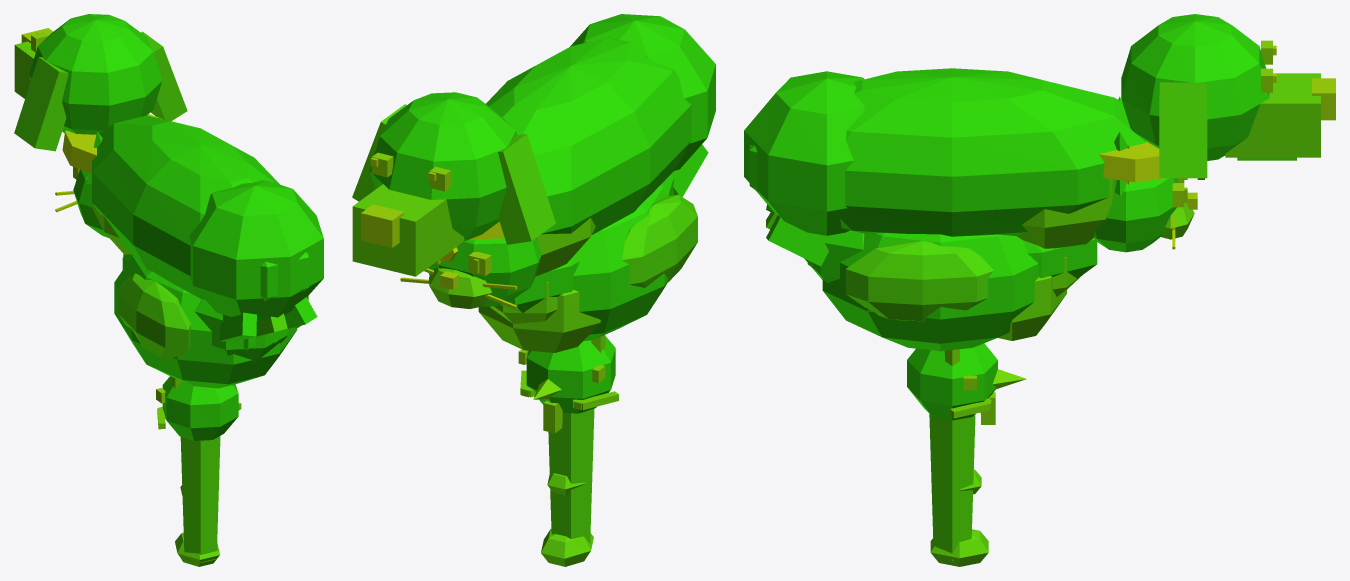
The model's file is animals.glb.
The picture shows the model from 3 angles, left to right: view 1: azimuth 30°, elevation 25°; view 2: azimuth 150°, elevation 25°; view 3: azimuth 270°, elevation 25°; orthographic projection. The views are drawn at different scales.
Parts seen in each view (by area): view 1: ap_dog_torso, ap_hen_body, ap_dog_leg, ap_hen_head, ap_cat_torso; view 2: ap_dog_torso, ap_hen_body, ap_cat_torso, ap_dog_leg, ap_hen_head, ap_cat_leg; view 3: ap_dog_torso, ap_hen_body, ap_cat_torso, ap_dog_leg, ap_hen_head.
Part boxes in pixels (x1,y1,x2,y2): ap_dog_torso: [14, 14, 323, 320]; ap_hen_body: [114, 255, 317, 429]; ap_dog_leg: [175, 435, 220, 566]; ap_hen_head: [156, 376, 238, 440]; ap_cat_torso: [55, 116, 288, 363]; ap_dog_torso: [352, 14, 715, 276]; ap_hen_body: [478, 144, 708, 410]; ap_cat_torso: [400, 174, 674, 323]; ap_dog_leg: [541, 409, 594, 566]; ap_hen_head: [518, 336, 615, 433]; ap_cat_leg: [547, 473, 585, 495]; ap_dog_torso: [744, 14, 1335, 248]; ap_hen_body: [766, 204, 1066, 418]; ap_cat_torso: [804, 96, 1197, 296]; ap_dog_leg: [929, 414, 988, 566]; ap_hen_head: [907, 343, 1026, 424].
Size of the model in its own units: 0.3457 by 1 by 0.9895.
